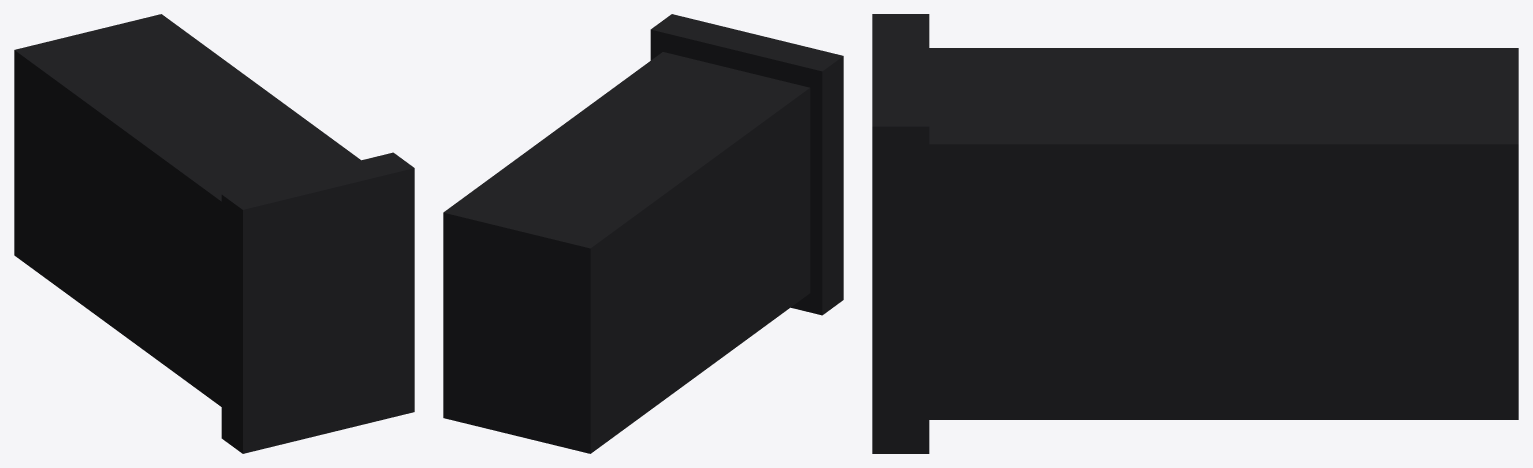
File: Beretta92_Mag15.fbx
3 renders of one model, left to right at view 1: azimuth 30°, elevation 25°; view 2: azimuth 150°, elevation 25°; view 3: azimuth 270°, elevation 25°, orthographic. The views are drawn at different scales.
Parts seen in each view (by area): view 1: prims; view 2: prims; view 3: prims.
Part boxes in pixels (x1,y1,x2,y2): prims: [14, 14, 414, 453]; prims: [443, 14, 843, 453]; prims: [872, 14, 1518, 453].
Size of the model in its own units: 0.0168 by 0.0228 by 0.0408.
